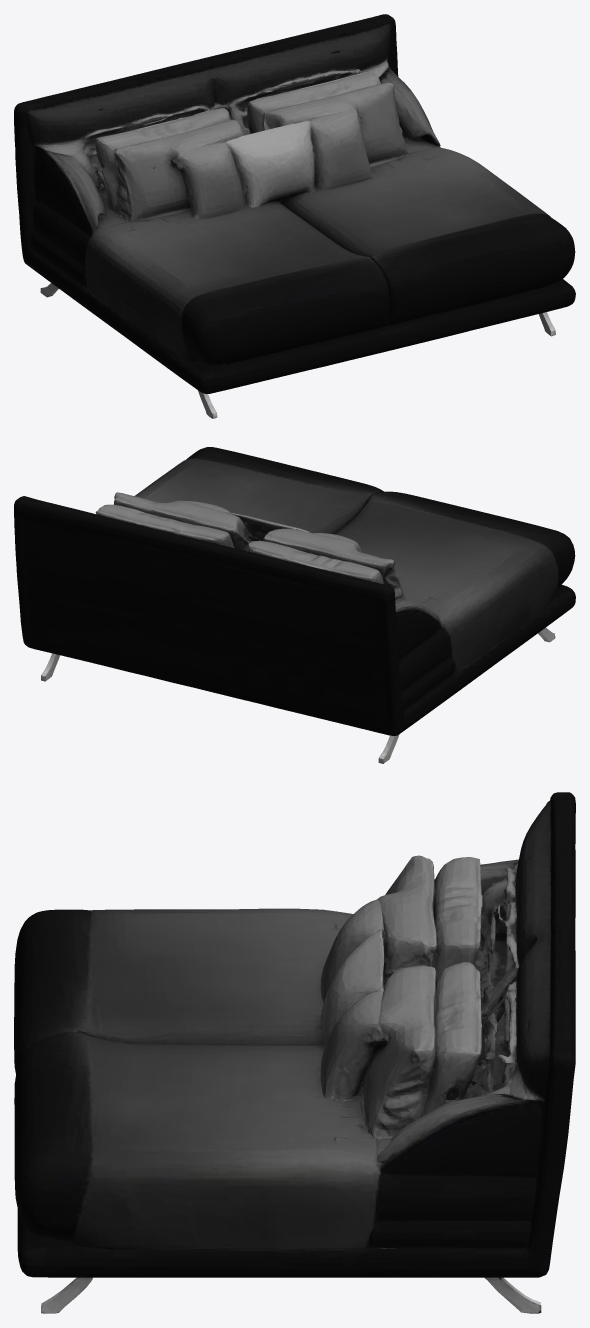
File: 488a9704-f02f-428c-b190-fcc7e7db4548.glb
3 views of the same model, one above another, from view 1: azimuth 30°, elevation 25°; view 2: azimuth 150°, elevation 25°; view 3: azimuth 270°, elevation 25° (orthographic). The views are drawn at different scales.
Parts seen in each view (by area): view 1: world; view 2: world; view 3: world.
Boxes of the visible parts, x1=… form: world: x1=14, y1=14, x2=575, y2=418; world: x1=14, y1=447, x2=575, y2=763; world: x1=14, y1=792, x2=575, y2=1313.
Size of the model in its own units: 0.9984 by 0.4675 by 0.8818.
Materials: 1 (1 with a texture image).
